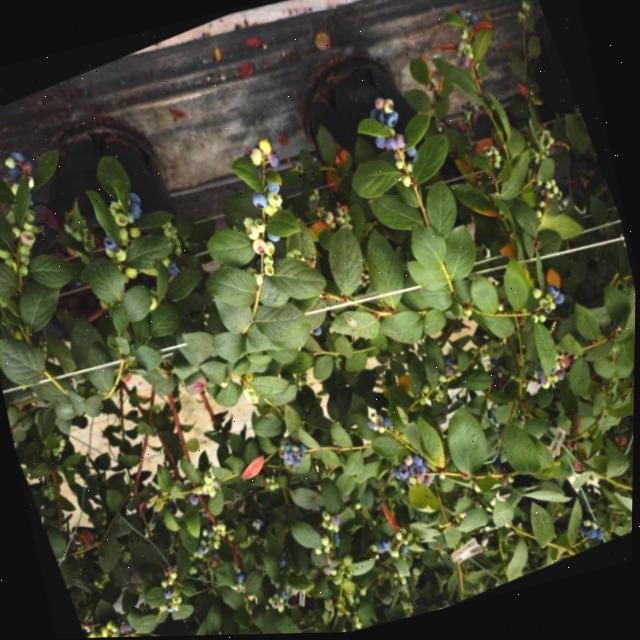RipeBlueBerry: (243, 183, 271, 210), (552, 283, 570, 305), (398, 460, 415, 480), (126, 196, 143, 216)
